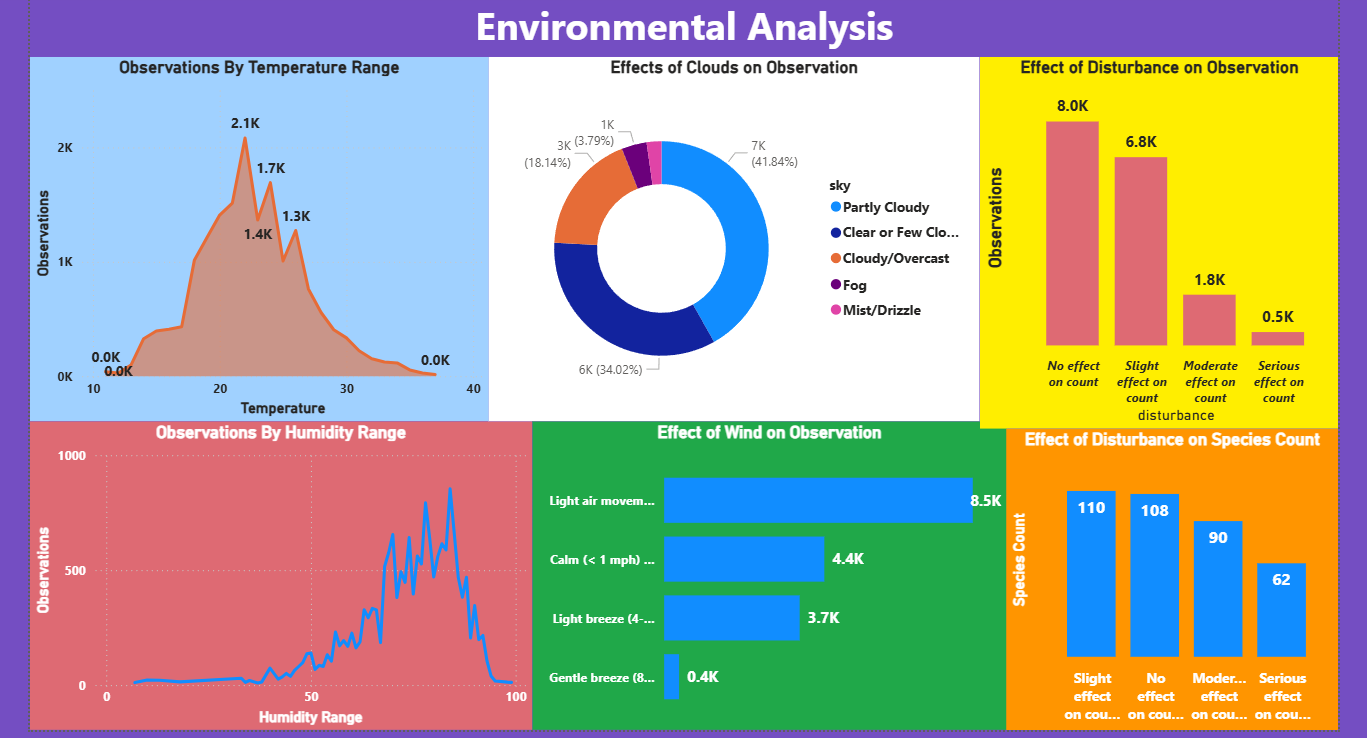

This screenshot's page, from the dashboard's own definition file:
{"tool":"powerbi","page":{"name":"Environmental Analysis","canvas":[1280,720],"ordinal":3},"visuals":[{"type":"areaChart","title":"Observations By Temperature Range","fields":{"Category":["temperature_bird_observations.temp_range"],"Y":["Sum(temperature_bird_observations.observations)"]},"box":[0,61.7,448.7,356.8],"z":0},{"type":"lineChart","title":"Observations By Humidity Range","fields":{"Category":["humidity_bird_observations.humidity_range"],"Y":["Sum(humidity_bird_observations.observations)"]},"box":[0,418.5,491.3,301.9],"z":1000},{"type":"donutChart","title":"Effects of Clouds on Observation","fields":{"Category":["sky_condition__bird_observations.sky"],"Y":["Sum(sky_condition__bird_observations.observations)"]},"box":[448.7,61.7,480.3,356.8],"z":2000},{"type":"clusteredBarChart","title":"Effect of Wind on Observation","fields":{"Category":["wind_condition__bird_observations.wind"],"Y":["Sum(wind_condition__bird_observations.observations)"]},"box":[491.3,418.5,463.8,301.9],"z":3000},{"type":"clusteredColumnChart","title":"Effect of Disturbance on Observation","fields":{"Category":["disturbance_vs_observations.disturbance"],"Y":["Sum(disturbance_vs_observations.observations)"]},"box":[929,61.7,351.3,363.6],"z":4000},{"type":"clusteredColumnChart","title":"Effect of Disturbance on Species Count","fields":{"Category":["disturbance_vs_species_diversity.disturbance"],"Y":["Sum(disturbance_vs_species_diversity.species_count)"]},"box":[955.1,425.4,325.2,295],"z":5000},{"type":"textbox","box":[0,0,1280.3,61.7],"z":6000}]}

Visuals, with their boxes on the page's 1280x720 design canvas (x1, y1, x2, y2). These are canvas units, not pixel positions in the 1367x738 screenshot, which may show the page scaled, cropped or inside an application window:
"Observations By Temperature Range" areaChart: l=0, t=62, r=449, b=418
"Observations By Humidity Range" lineChart: l=0, t=418, r=491, b=720
"Effects of Clouds on Observation" donutChart: l=449, t=62, r=929, b=418
"Effect of Wind on Observation" clusteredBarChart: l=491, t=418, r=955, b=720
"Effect of Disturbance on Observation" clusteredColumnChart: l=929, t=62, r=1280, b=425
"Effect of Disturbance on Species Count" clusteredColumnChart: l=955, t=425, r=1280, b=720
textbox: l=0, t=0, r=1280, b=62
